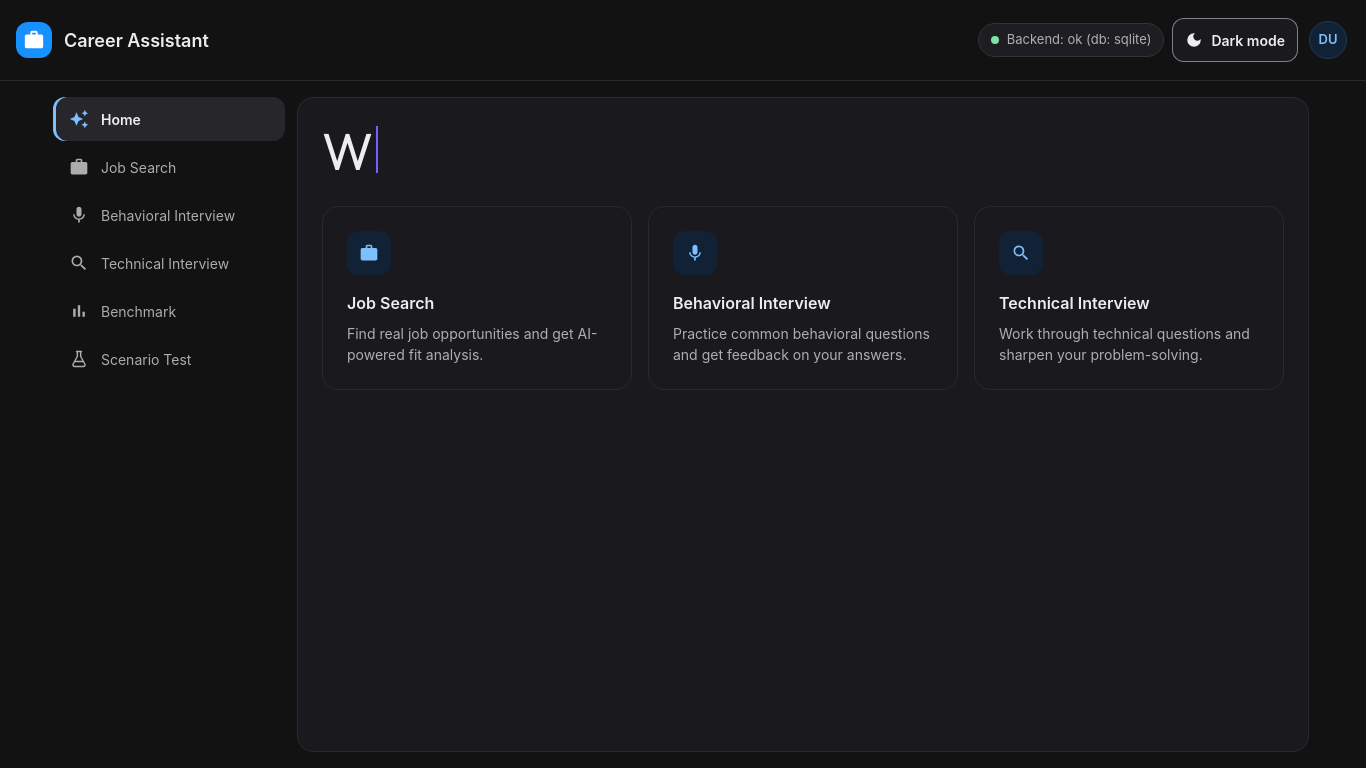
Test: App › opens the Scenario Test from the sidebar and only then loads its questions
Click the button "Scenario Test" at (169, 359), box [53,337,285,381]
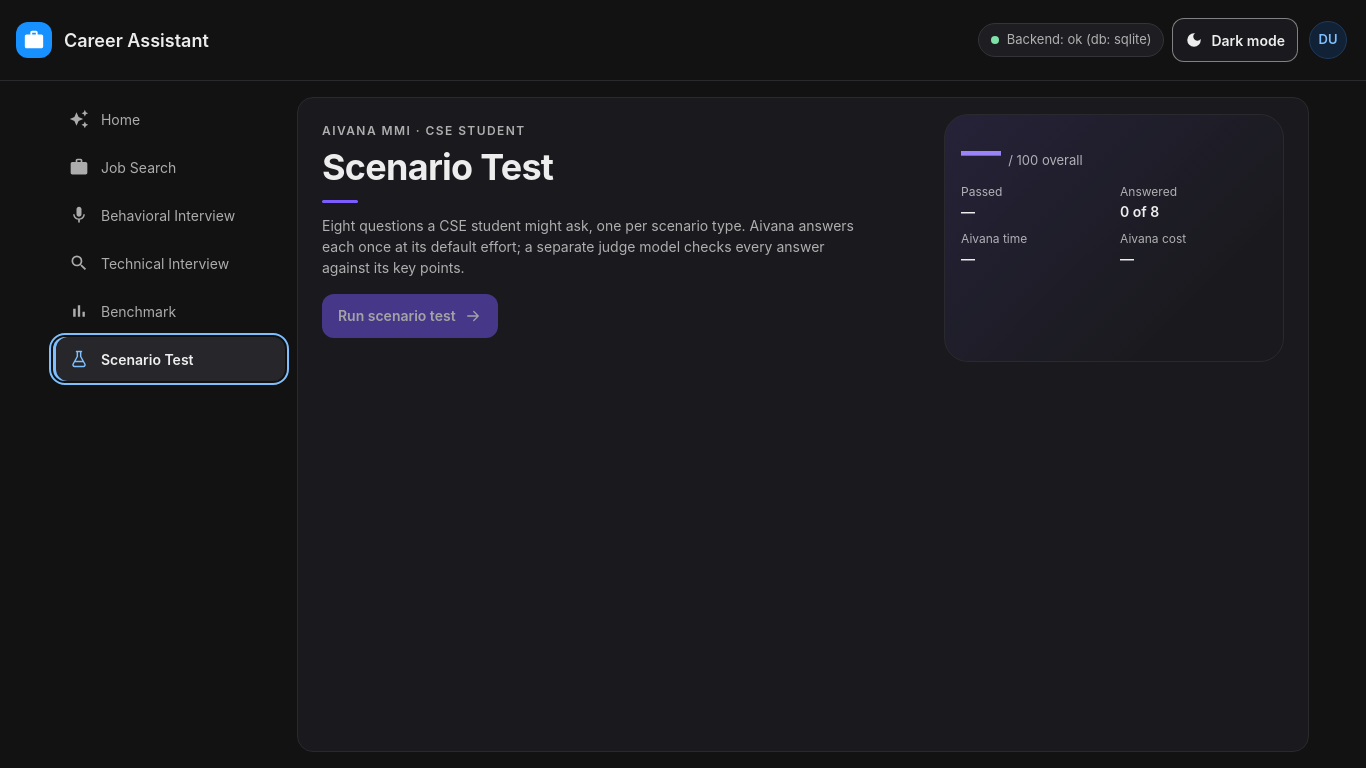
Expected: the heading "Scenario Test" is shown, [322,145,553,189]
